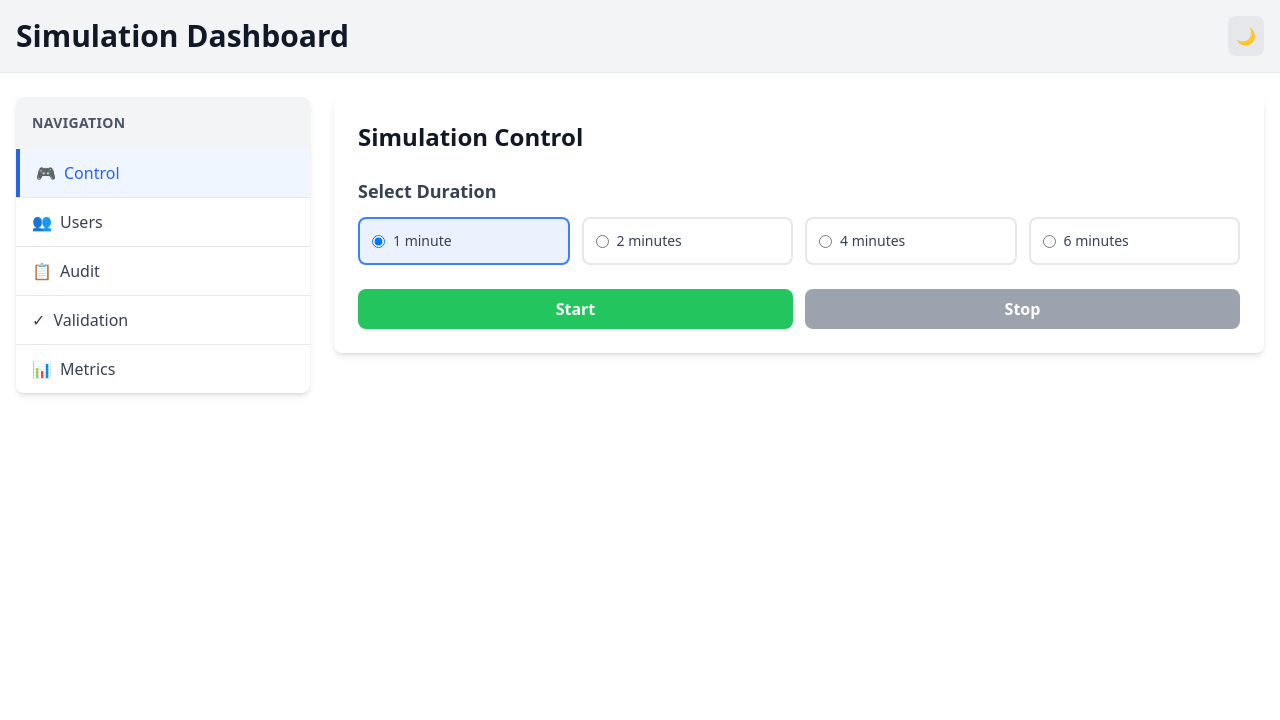
Test: Integration: Simulation Flow › should start a simulation and poll status
Check: the heading "Simulation Dashboard" is shown, box left=16, top=18, right=349, bottom=54
Click the Start button
What coordinates should you click on to do the following:
click the button "Start"
I would click on:
 (576, 309)
Its box is left=358, top=289, right=793, bottom=329.
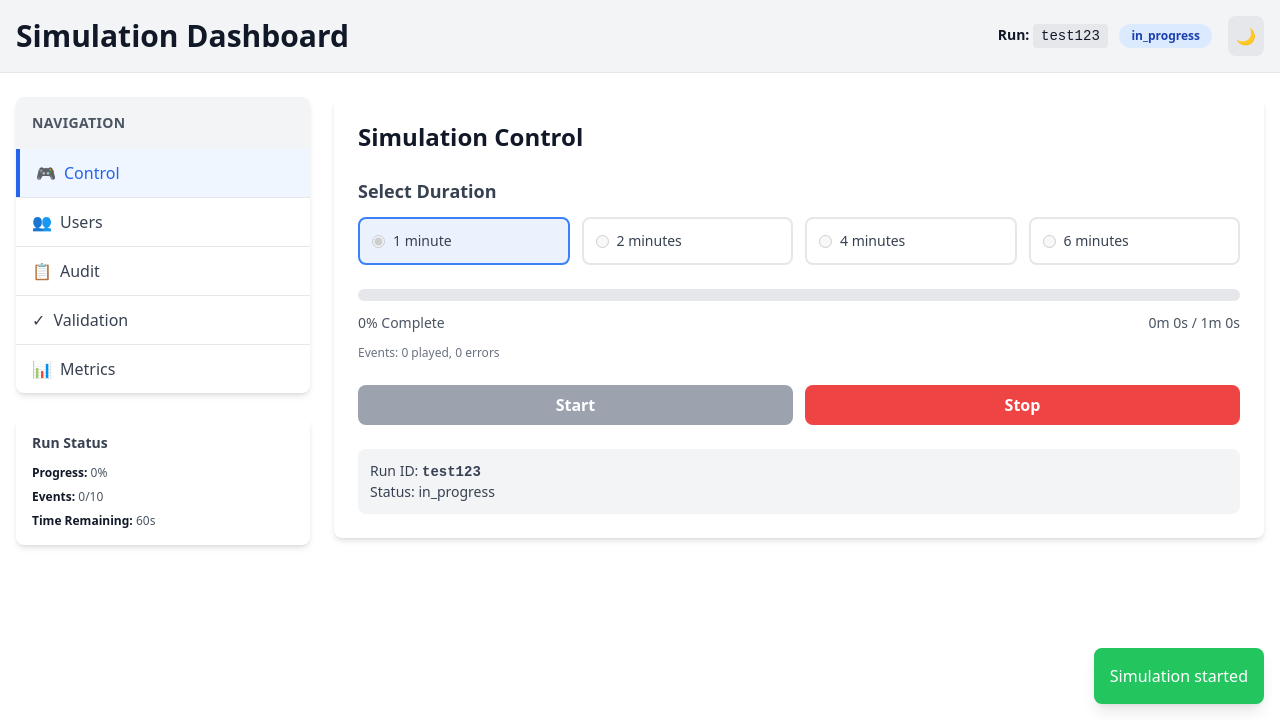
Check: the text "Run:" is shown, box left=998, top=25, right=1029, bottom=44
